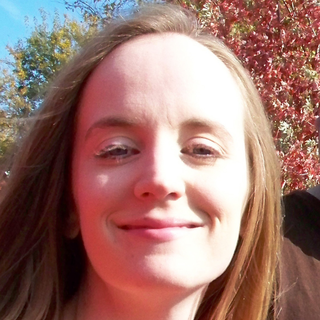eye: (181, 140, 227, 163), (98, 140, 143, 163)
